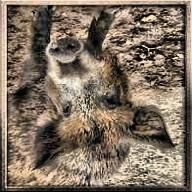boar: (0, 3, 172, 192)
